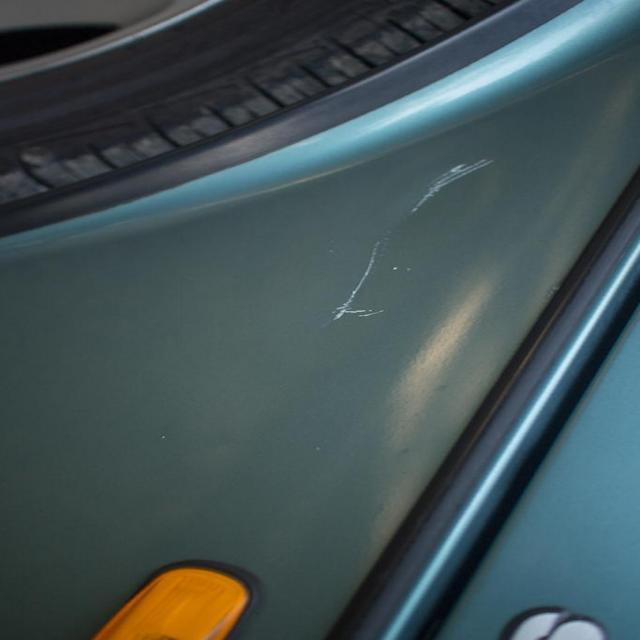scratch: (297, 142, 519, 336)
